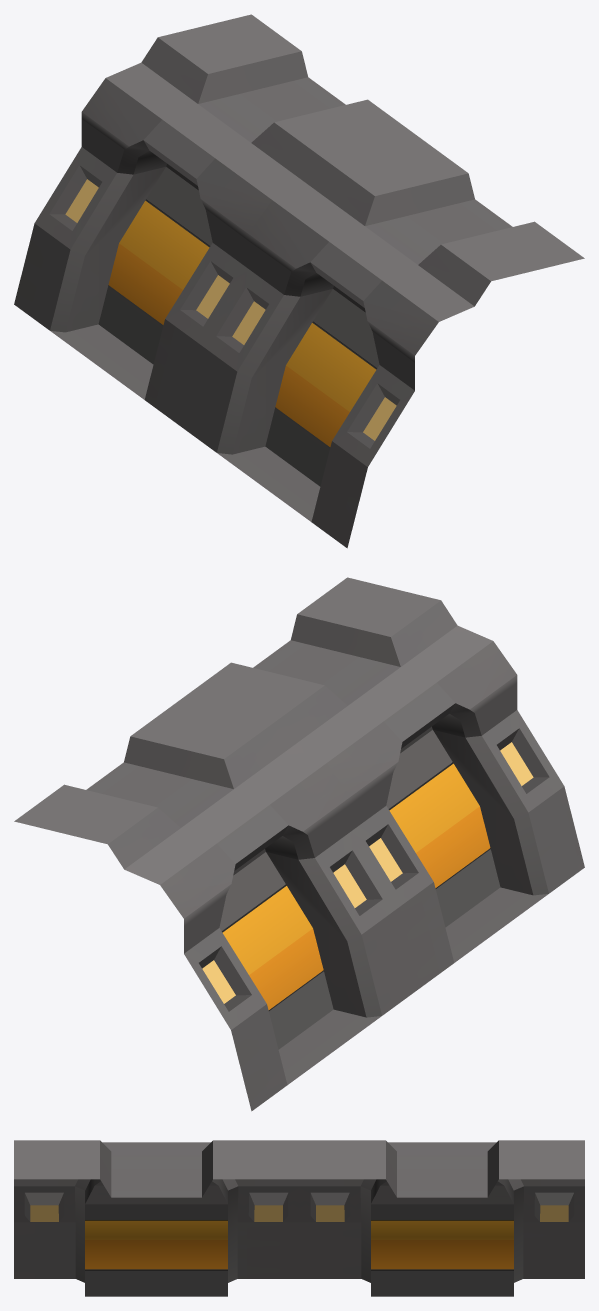
File: Outter_Border_Wall.fbx
The picture shows the model from 3 angles, top to bottom: view 1: azimuth 30°, elevation 25°; view 2: azimuth 150°, elevation 25°; view 3: azimuth 270°, elevation 25°; orthographic projection. The views are drawn at different scales.
Visible parts, largest first — view 1: Outter_Wall; view 2: Outter_Wall; view 3: Outter_Wall.
Boxes of the visible parts, x1,y1,x2,y2 form: Outter_Wall: (14, 14, 584, 548); Outter_Wall: (14, 577, 584, 1111); Outter_Wall: (14, 1140, 584, 1296).
Bounding box in the file's own units: 297 × 277 × 722.
Materials: 1 (1 with a texture image).
